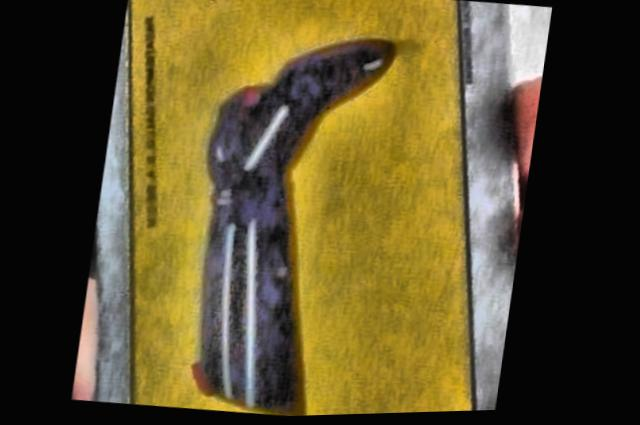La Bota: (132, 0, 478, 418)
